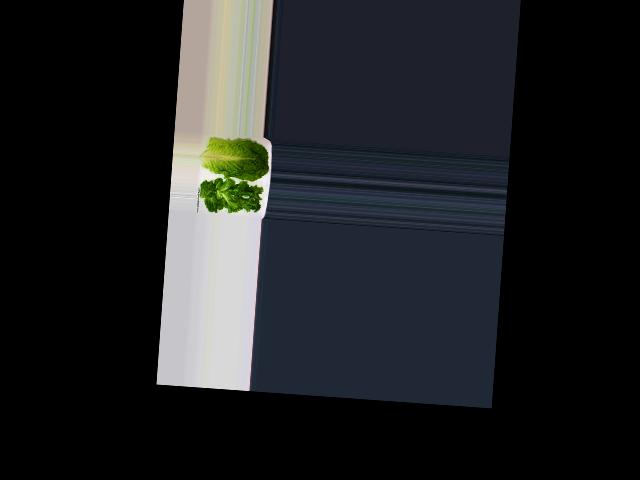lettuce: (200, 178, 263, 219)
